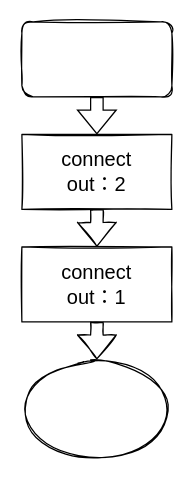
Image size: 194x481. Some labels were removed from this diagram. Each missing label, with the centre of its shape:
"Input 1X2" belongs at (96,59).
"mse" belongs at (96,408).
